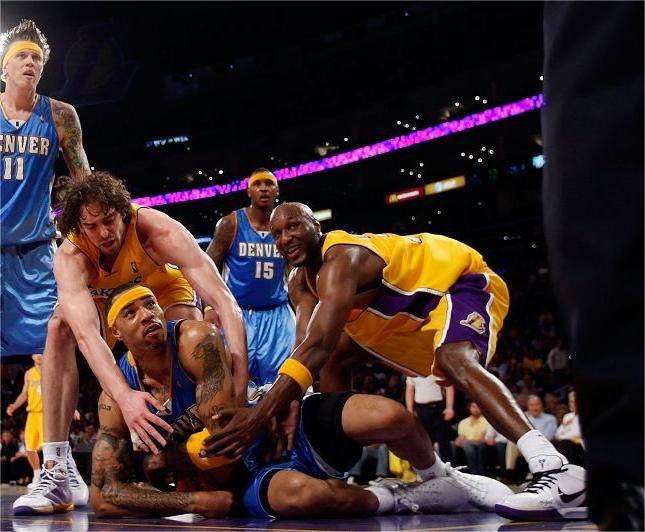bending: (251, 204, 573, 518), (20, 171, 244, 523)
down: (86, 284, 493, 524)
up: (3, 3, 96, 518), (201, 163, 301, 380)
